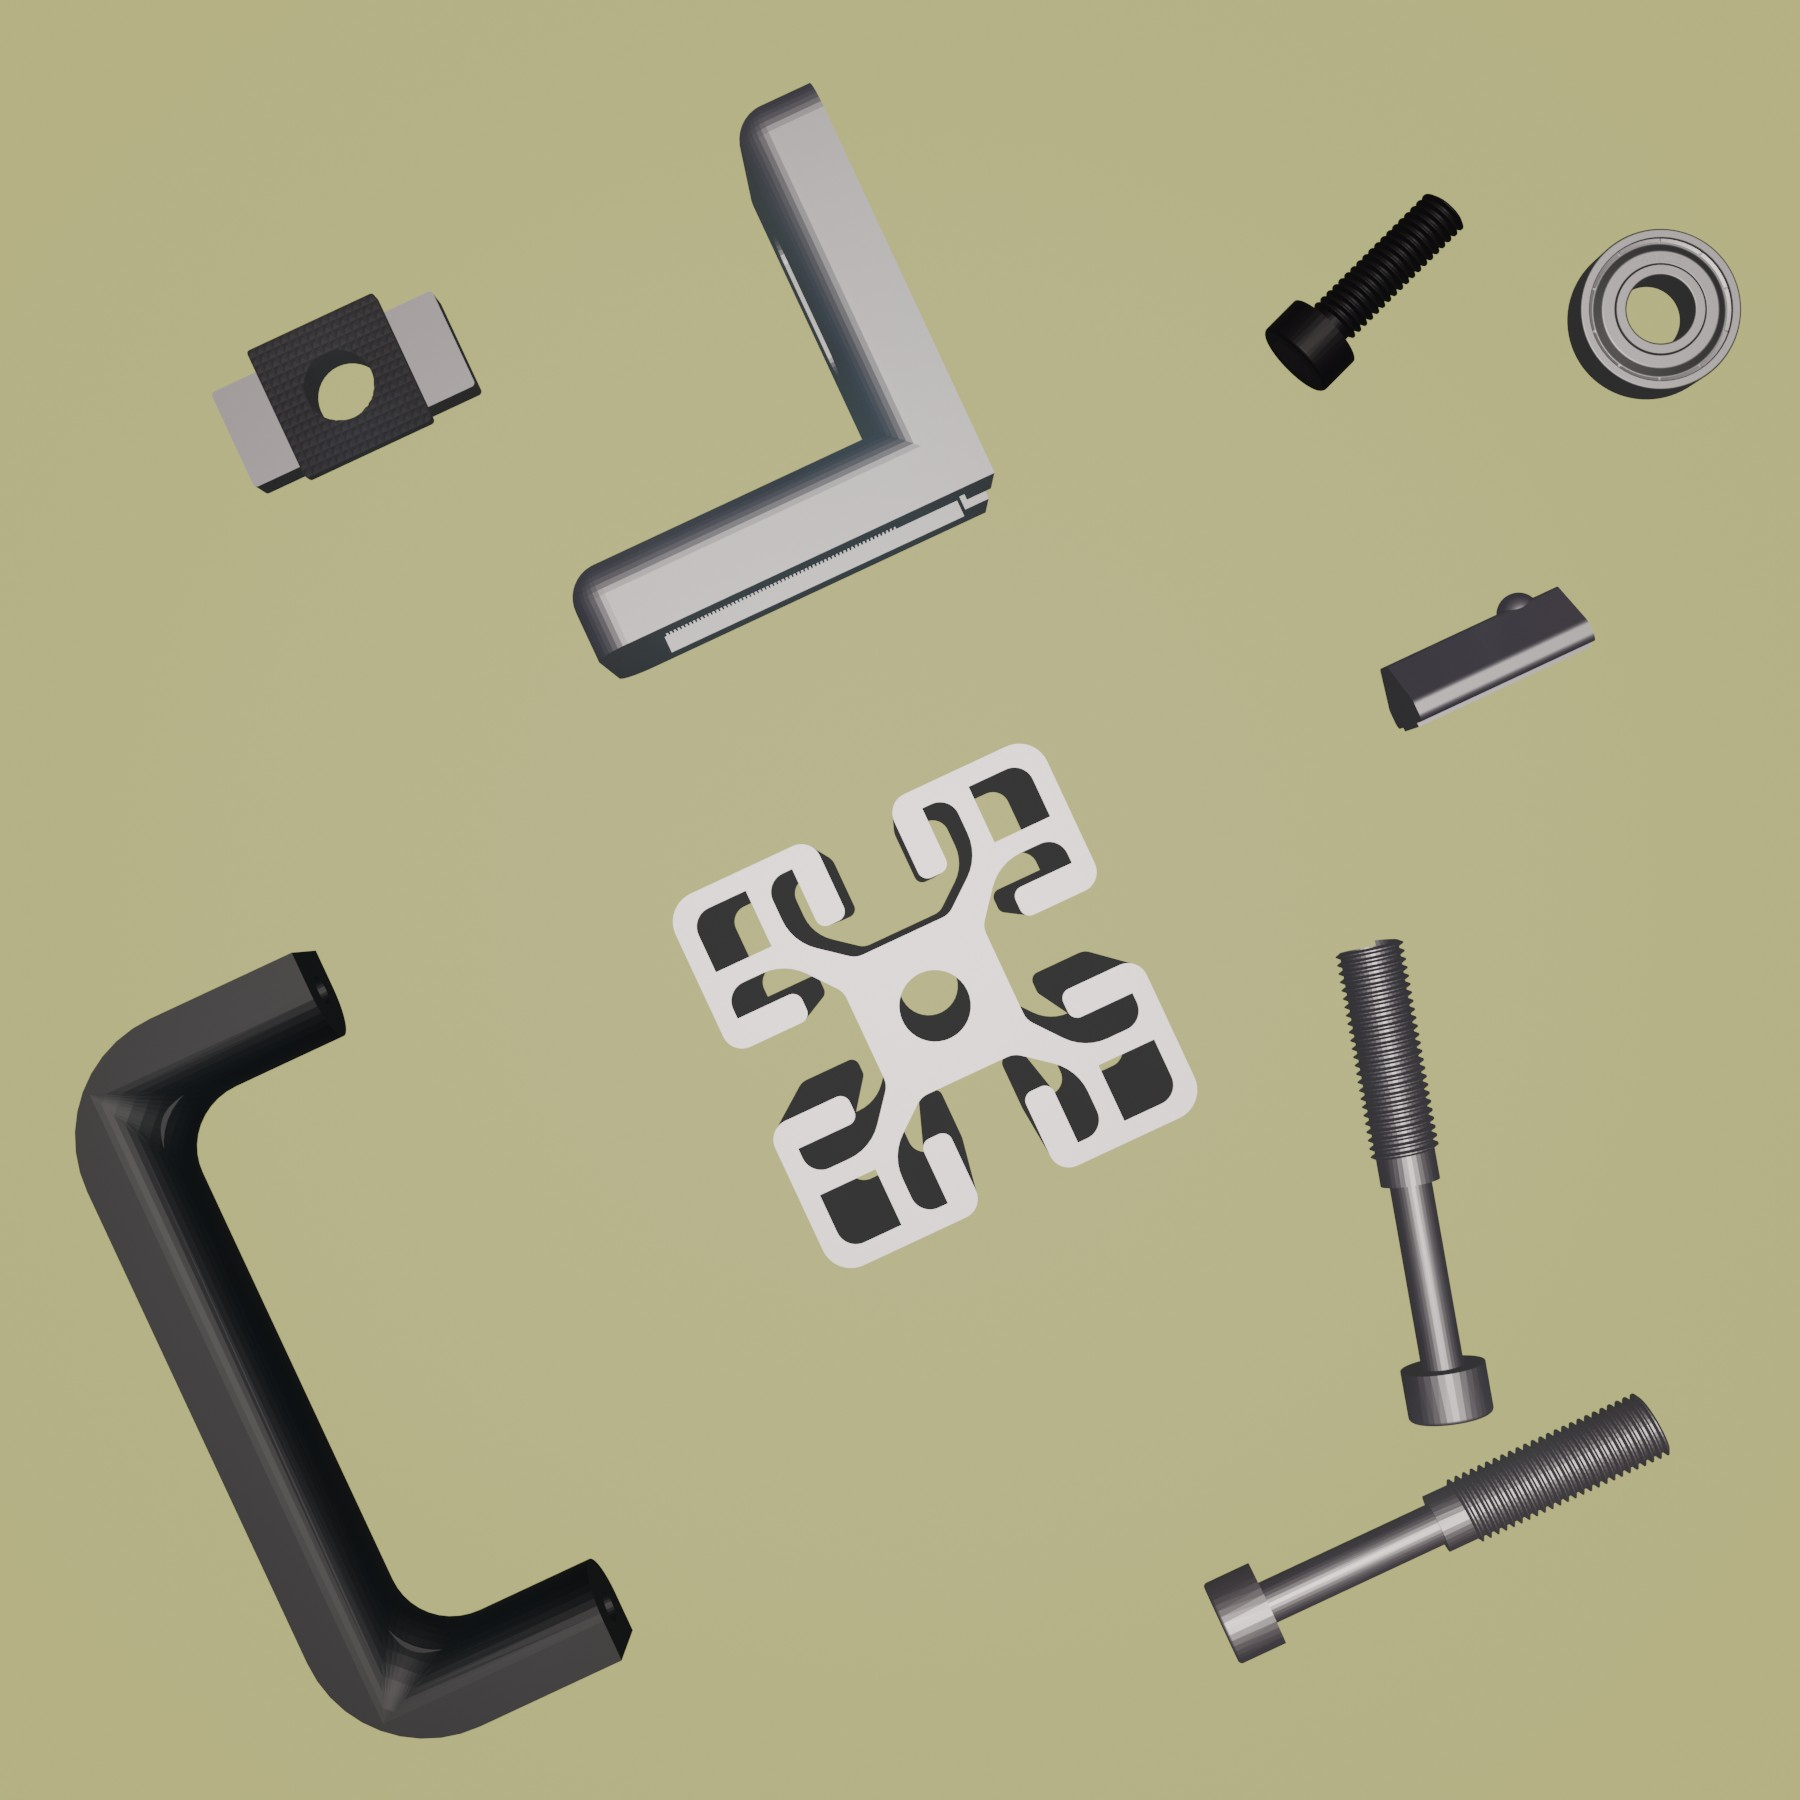Aluminium Extension: (673, 742, 1202, 1274)
Ball Bearing: (1563, 223, 1742, 402)
Multiwinkel: (570, 84, 997, 681)
Pull Handle: (71, 945, 631, 1742)
Shoulder Socket Head Cap Screw: (1200, 1390, 1675, 1670), (1334, 931, 1497, 1432)
Socket Head Cap Screw: (1266, 190, 1470, 396)
T Nut Square: (208, 287, 486, 499)
T Spring Nut: (1375, 582, 1602, 735)
